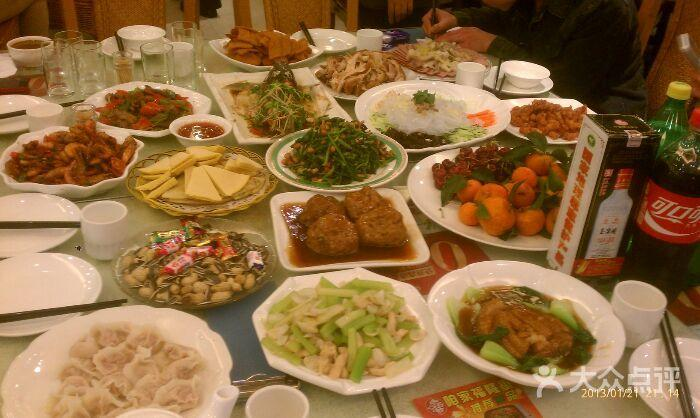food: (6, 303, 241, 412), (256, 258, 438, 396), (427, 254, 620, 383), (416, 126, 577, 245), (108, 214, 277, 307), (266, 181, 422, 269), (3, 113, 146, 196), (358, 72, 509, 150), (123, 140, 272, 216), (266, 109, 401, 192), (71, 75, 213, 135), (217, 63, 324, 137), (390, 30, 495, 80), (503, 91, 593, 142), (315, 47, 410, 95), (167, 109, 234, 148)
